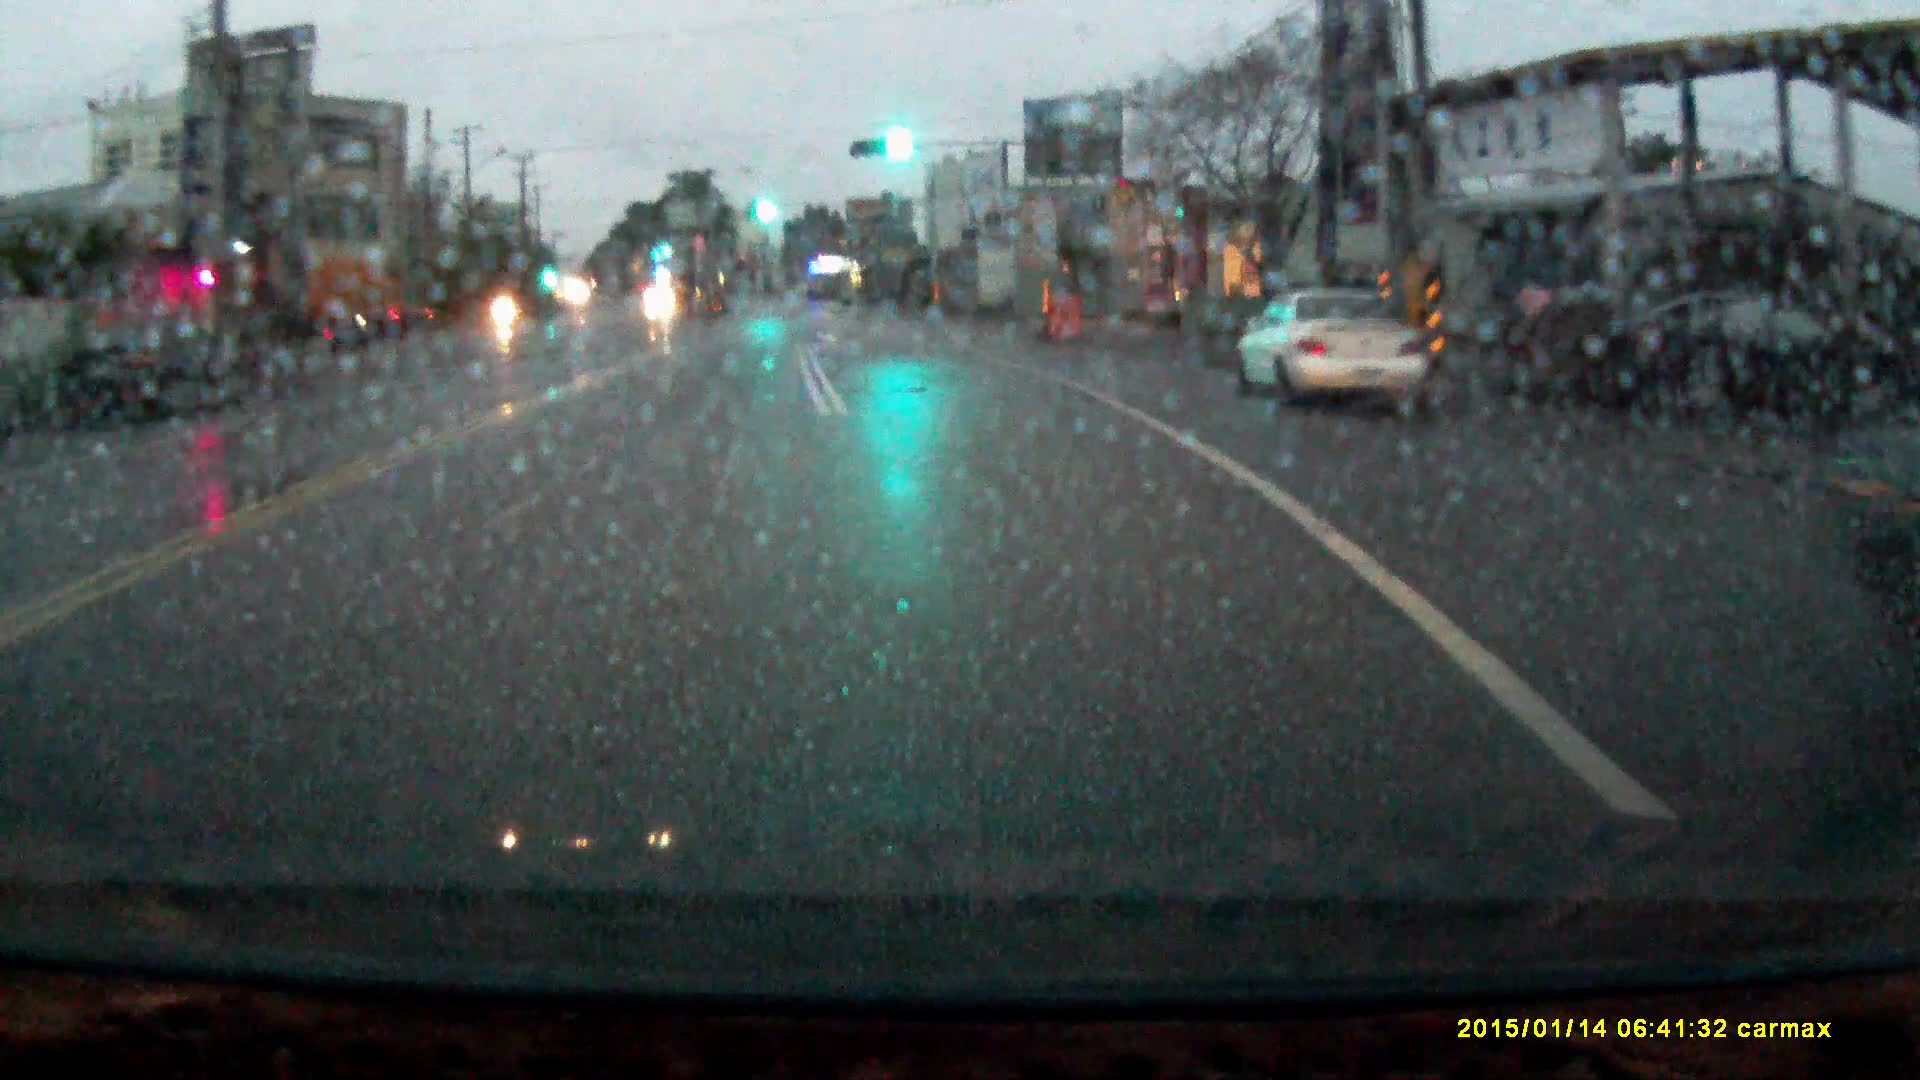rider: (486, 278, 519, 332)
vehicle: (1231, 289, 1429, 409), (252, 233, 432, 338), (62, 322, 242, 425), (645, 286, 675, 311)
